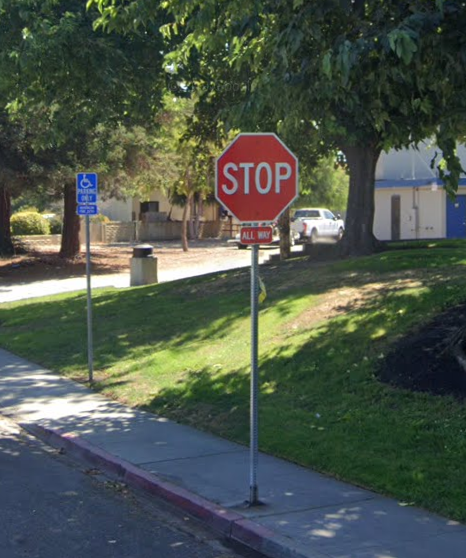stop_sign: (216, 133, 299, 221)
